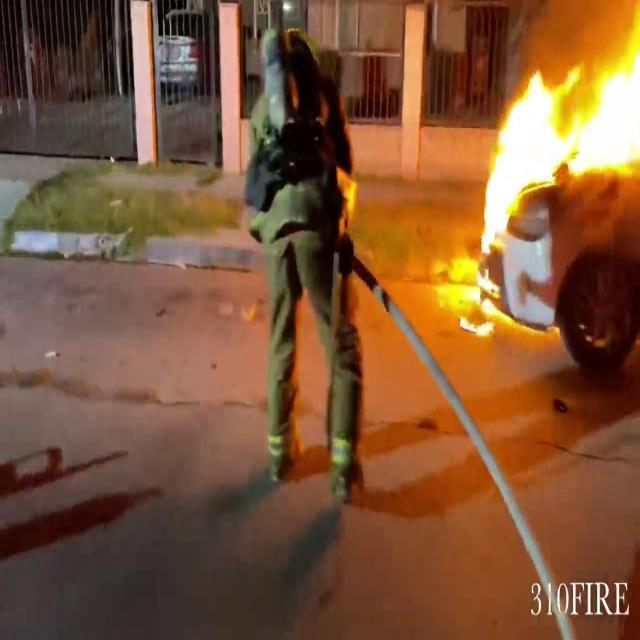Fire: (475, 2, 640, 220), (446, 232, 514, 344)
